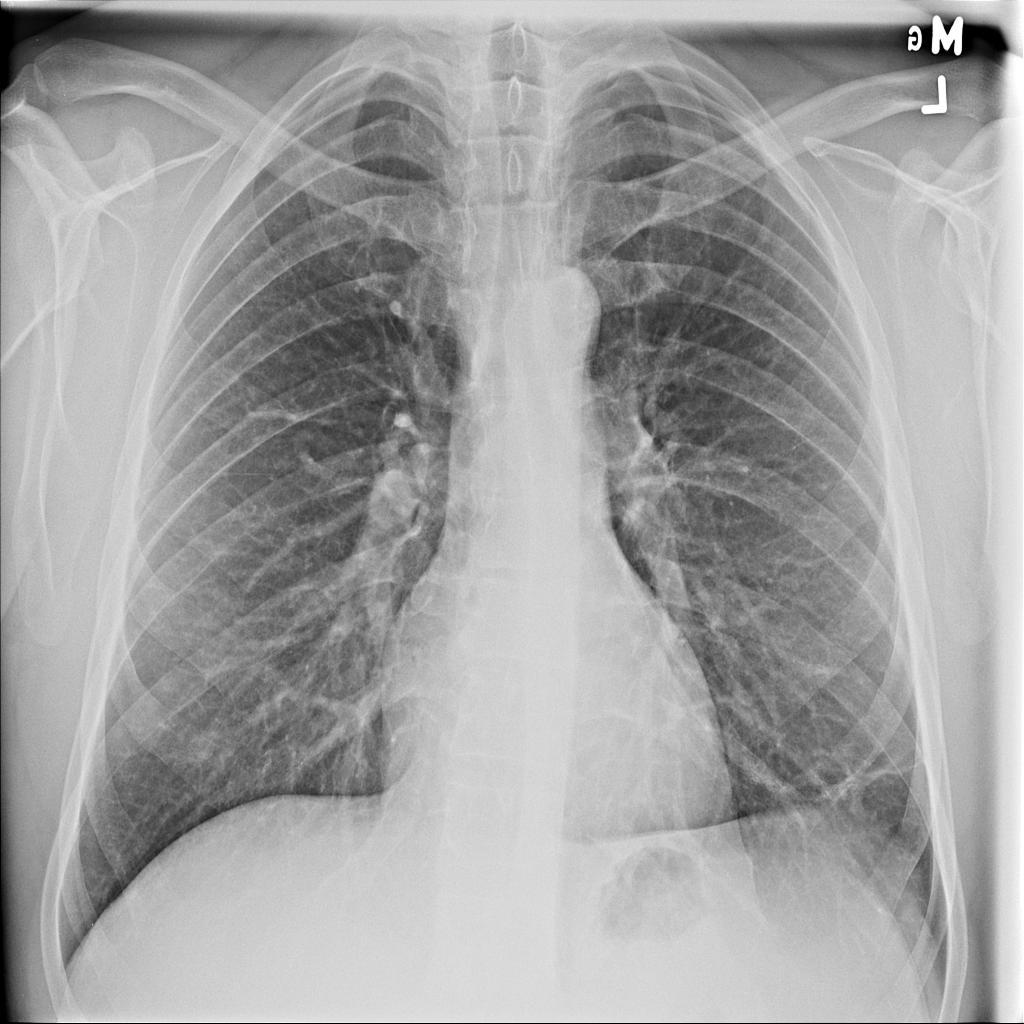Nodule: (368, 468, 419, 530)
